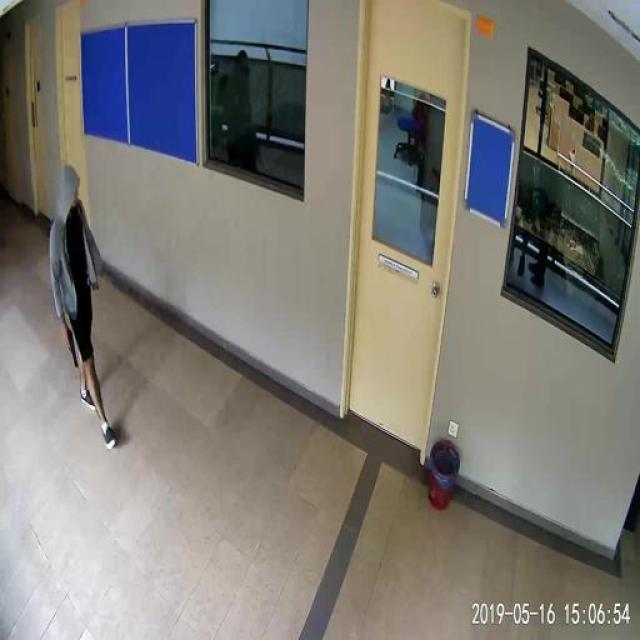Gun: (52, 314, 82, 374)
